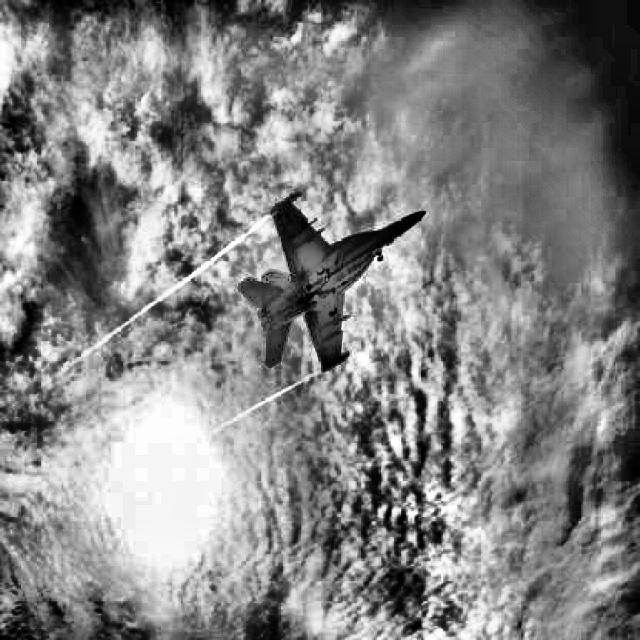F18: (239, 192, 427, 372)
